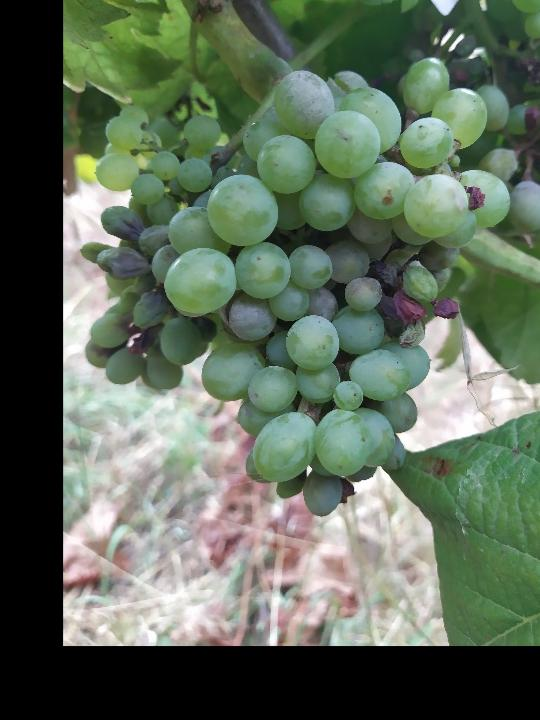grape: (84, 53, 515, 522)
